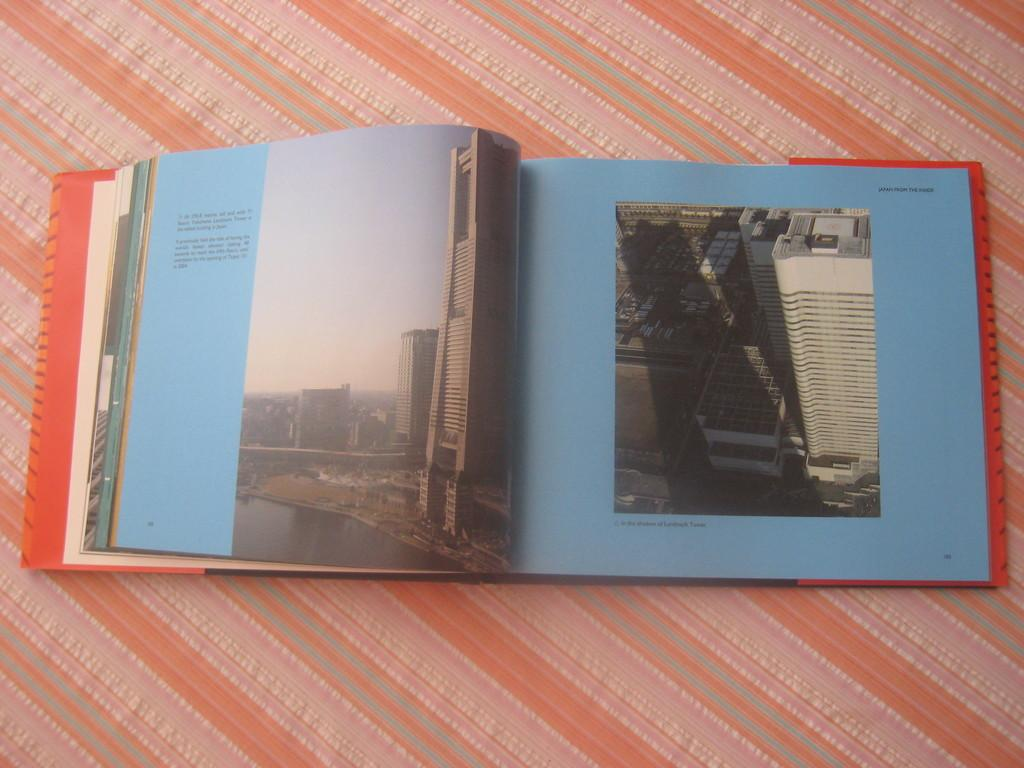book: (72, 128, 954, 566)
